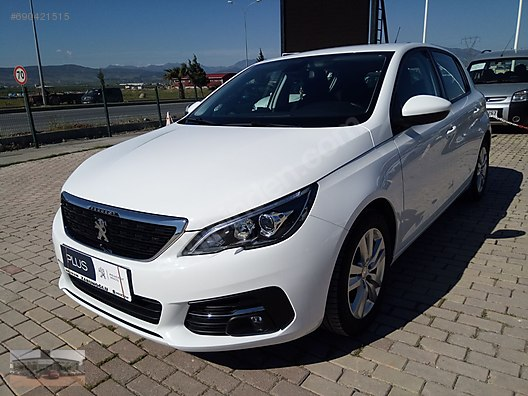peugeot: (47, 39, 497, 356)
